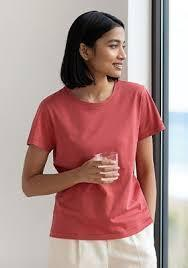Tshirt: (27, 79, 162, 240)
